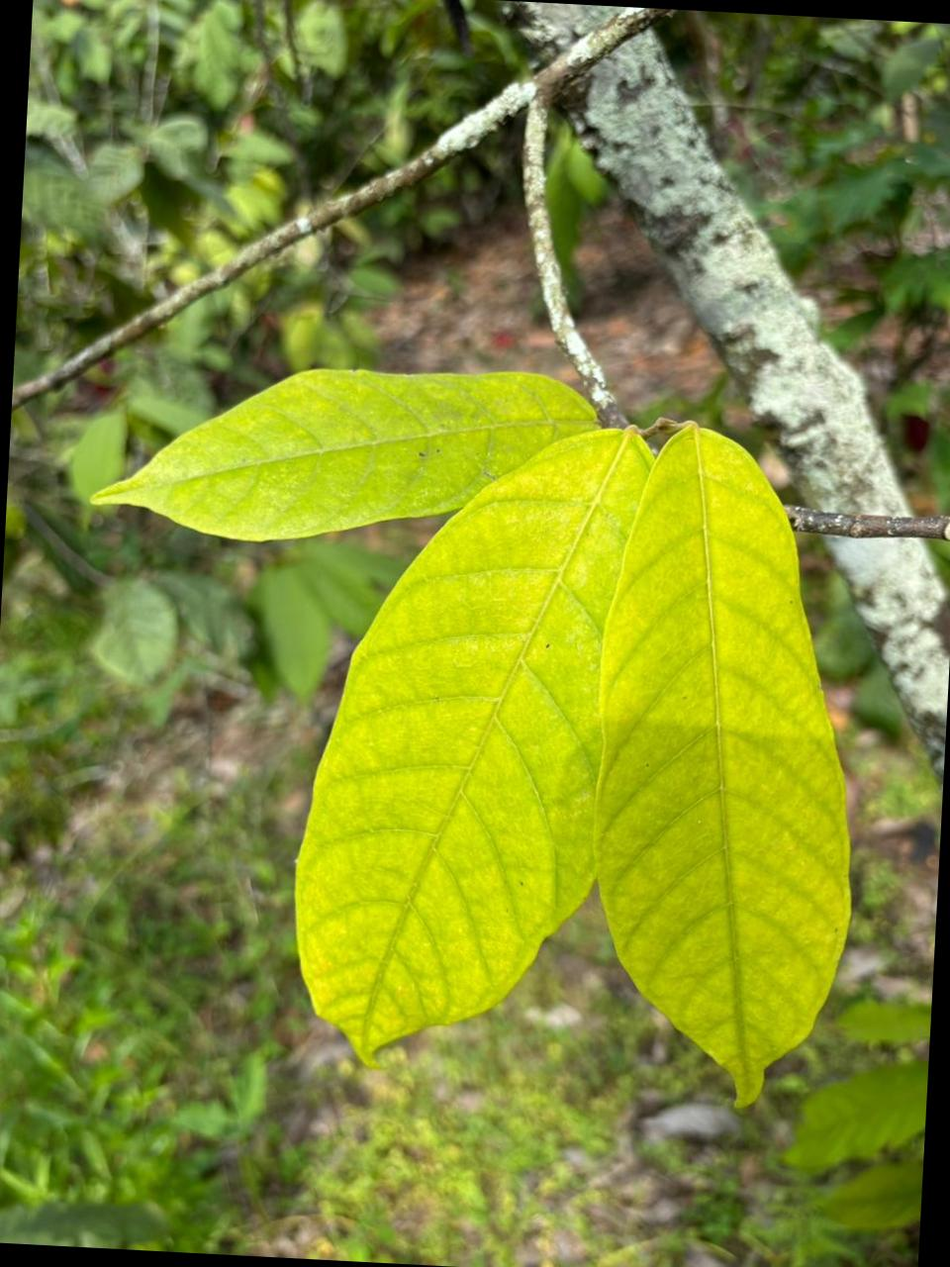Nitrogeno: (297, 429, 652, 1061), (595, 428, 849, 1105), (97, 371, 596, 541)
